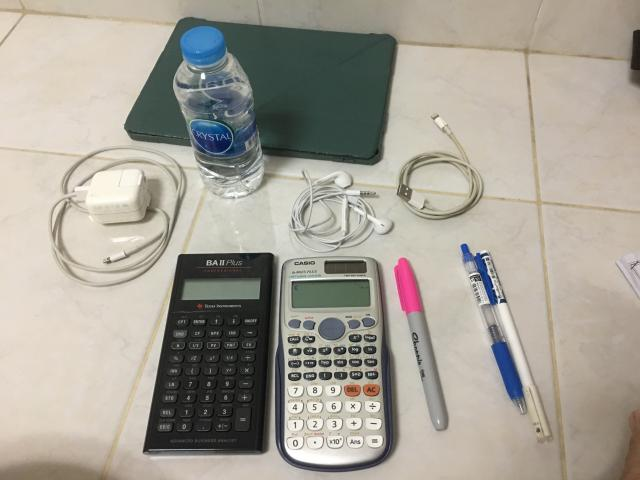Pen: (461, 244, 552, 442), (395, 258, 448, 430)
bottle: (172, 26, 264, 198)
wire: (49, 145, 186, 288), (396, 114, 484, 220), (289, 170, 392, 252)
